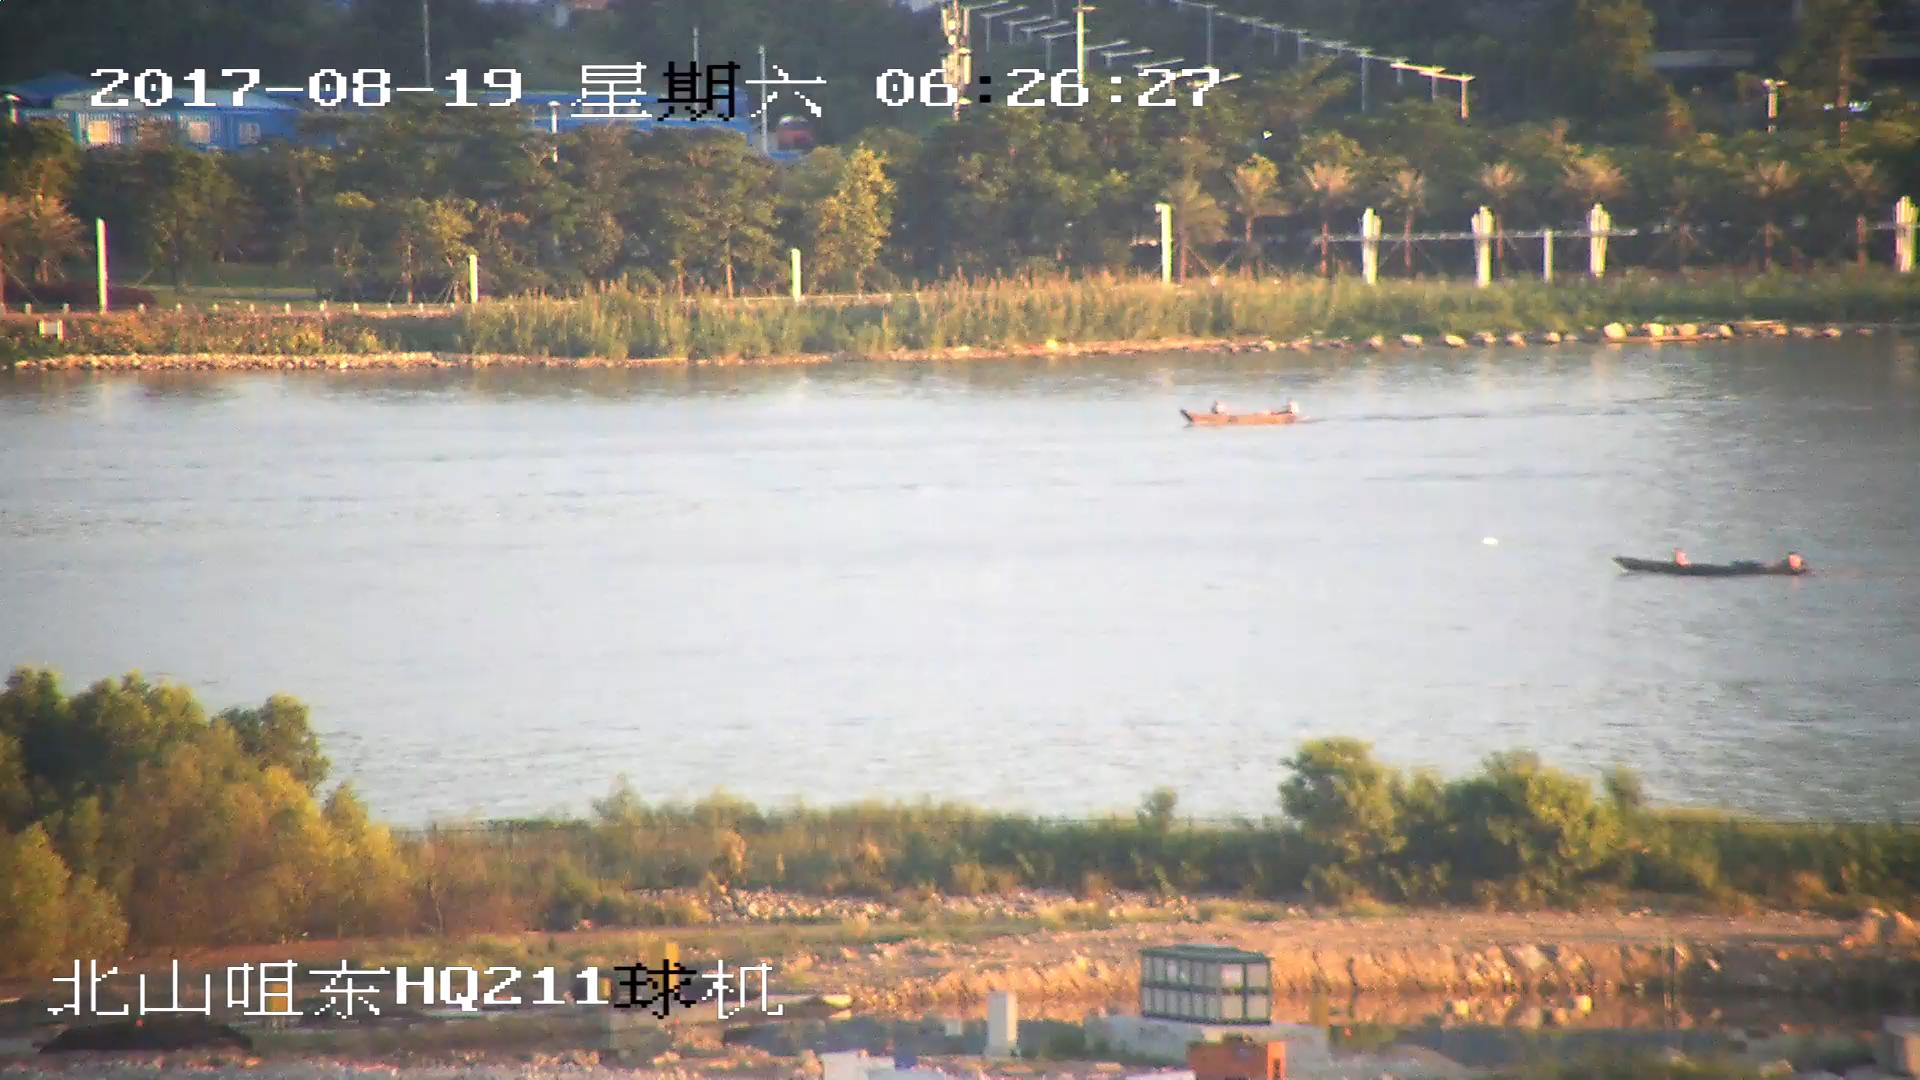fishing boat: (1616, 547, 1810, 580), (1182, 397, 1299, 429)
